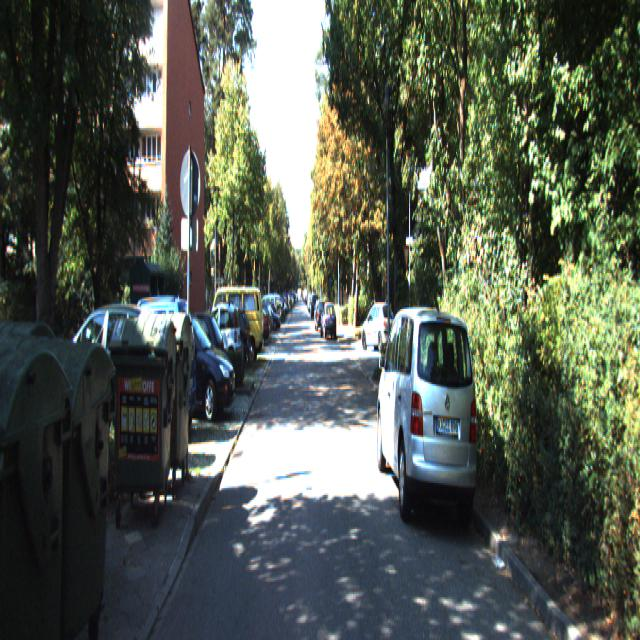Car: (16, 300, 170, 478), (374, 294, 484, 537), (80, 294, 198, 444), (145, 308, 236, 424), (210, 284, 265, 364), (192, 304, 242, 380), (202, 306, 251, 372), (360, 301, 397, 354), (321, 303, 337, 340)
